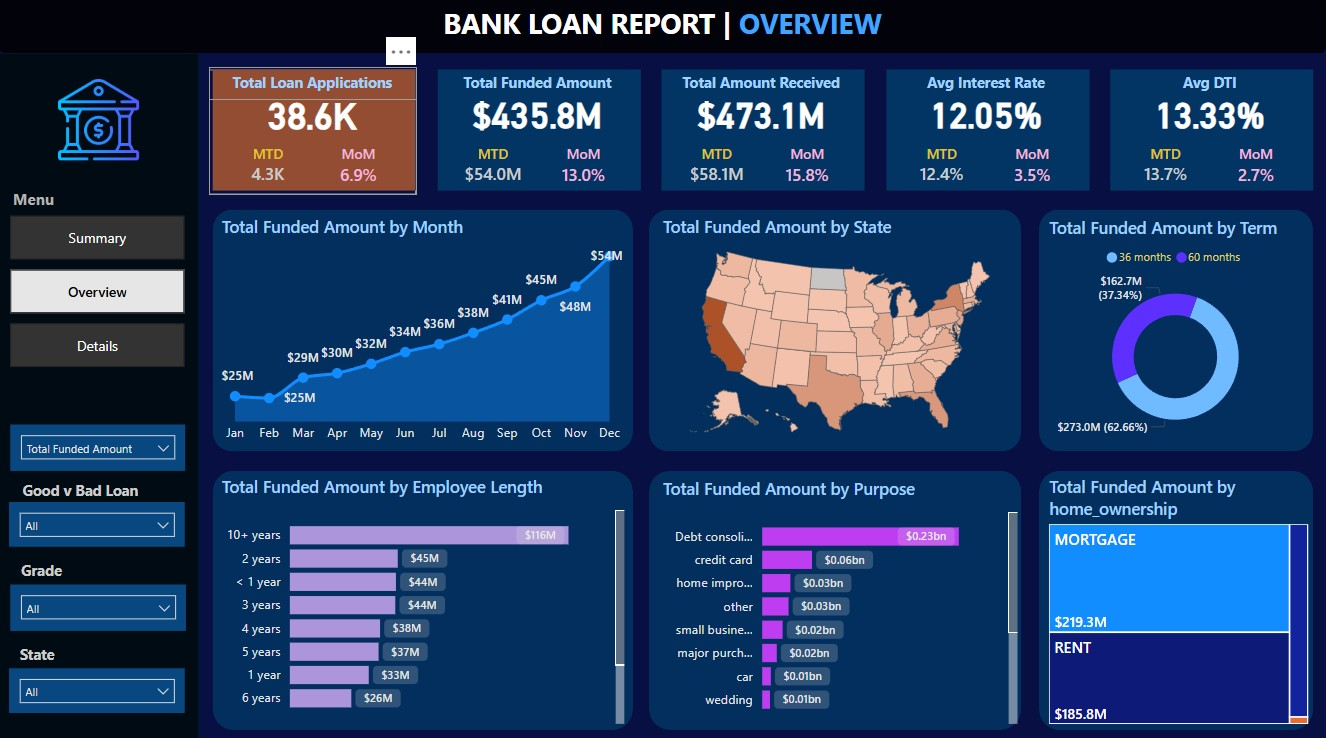

What the dashboard file says about the page in this screenshot:
{"tool":"powerbi","page":{"name":"Overview","canvas":[1280,720],"ordinal":1},"visuals":[{"type":"shape","box":[0,0,1280.5,54.6],"z":0},{"type":"group","id":"g1","title":"Group 1","box":[203.1,69.4,199.4,120.6],"z":0,"group":"g6"},{"type":"group","id":"g2","title":"Group 1","box":[419.5,69.4,199.4,120.6],"z":0,"group":"g7"},{"type":"group","id":"g3","title":"Group 1","box":[636,69.4,199.4,120.6],"z":0,"group":"g8"},{"type":"group","id":"g4","title":"Group 1","box":[852.6,69.4,199.4,120.6],"z":0,"group":"g9"},{"type":"group","id":"g5","title":"Group 1","box":[1069.1,69.4,199.4,120.6],"z":0,"group":"g10"},{"type":"textbox","box":[203.6,67.3,199.3,30.8],"z":1000,"group":"g6"},{"type":"textbox","box":[420,67.3,199.3,30.8],"z":1000,"group":"g7"},{"type":"textbox","box":[636.5,67.3,199.3,30.8],"z":1000,"group":"g8"},{"type":"textbox","box":[853.1,67.3,199.3,30.8],"z":1000,"group":"g9"},{"type":"textbox","box":[1069.6,67.3,199.3,30.8],"z":1000,"group":"g10"},{"type":"shape","box":[206.5,205.3,405.9,233.8],"z":1000},{"type":"textbox","box":[8.1,461.6,140,35.6],"z":1000,"group":"g16"},{"type":"textbox","box":[9.9,539.5,62.5,32.4],"z":1000,"group":"g17"},{"type":"textbox","box":[1.8,620.6,71.2,29.7],"z":1000,"group":"g18"},{"type":"shape","box":[627.8,205.3,359.6,233.8],"z":2000},{"type":"shape","box":[0,54.6,192.9,665.8],"z":3000},{"type":"shape","box":[206.5,69.4,195.9,117.2],"z":3000,"group":"g1"},{"type":"shape","box":[422.9,69.4,195.9,117.2],"z":3000,"group":"g2"},{"type":"shape","box":[639.4,69.4,195.9,117.2],"z":3000,"group":"g3"},{"type":"shape","box":[856,69.4,195.9,117.2],"z":3000,"group":"g4"},{"type":"shape","box":[1072.5,69.4,195.9,117.2],"z":3000,"group":"g5"},{"type":"shape","box":[0,54.6,192.9,665.8],"z":4000},{"type":"textbox","box":[403,2.1,474.5,45.6],"z":5000},{"type":"group","id":"g6","title":"Group 2","box":[203.1,67.3,199.8,122.6],"z":7000,"group":"g11"},{"type":"group","id":"g7","title":"Group 2","box":[419.5,67.3,199.8,122.6],"z":7000,"group":"g12"},{"type":"group","id":"g8","title":"Group 2","box":[636,67.3,199.8,122.6],"z":7000,"group":"g13"},{"type":"group","id":"g9","title":"Group 2","box":[852.6,67.3,199.8,122.6],"z":7000,"group":"g14"},{"type":"group","id":"g10","title":"Group 2","box":[1069.1,67.3,199.8,122.6],"z":7000,"group":"g15"},{"type":"group","id":"g11","title":"Group 3","box":[203.1,67.3,199.8,123.3],"z":8000},{"type":"card","fields":{"Values":["financial_loan.Total Loan Applications"]},"box":[203.1,88.3,199.3,45.5],"z":8000,"group":"g1"},{"type":"card","fields":{"Values":["financial_loan.Total Loan Amount"]},"box":[419.5,88.3,199.3,45.5],"z":8000,"group":"g2"},{"type":"card","fields":{"Values":["financial_loan.Total Amount Collection"]},"box":[636,88.3,199.3,45.5],"z":8000,"group":"g3"},{"type":"card","fields":{"Values":["financial_loan.Avg Interest Rate"]},"box":[852.6,88.3,199.3,45.5],"z":8000,"group":"g4"},{"type":"card","fields":{"Values":["financial_loan.Avg DTI"]},"box":[1069.1,88.3,199.3,45.5],"z":8000,"group":"g5"},{"type":"card","title":"MoM","fields":{"Values":["financial_loan.YOY Loan Applications"]},"box":[303.6,141.9,88.1,48.7],"z":8000,"group":"g11"},{"type":"card","title":"MoM","fields":{"Values":["financial_loan.YOY Loan Amount"]},"box":[520,141.9,88.1,48.7],"z":8000,"group":"g12"},{"type":"card","title":"MoM","fields":{"Values":["financial_loan.YOY Loan Collection"]},"box":[736.5,141.9,88.1,48.7],"z":8000,"group":"g13"},{"type":"card","title":"MoM","fields":{"Values":["financial_loan.YOY Int Rate"]},"box":[953.1,141.9,88.1,48.7],"z":8000,"group":"g14"},{"type":"card","title":"MoM","fields":{"Values":["financial_loan.YOY DTI"]},"box":[1169.6,141.9,88.1,48.7],"z":8000,"group":"g15"},{"type":"group","id":"g12","title":"Group 3","box":[419.5,67.3,199.9,123.3],"z":9000},{"type":"card","title":"MTD","fields":{"Values":["financial_loan.MTD Applications"]},"box":[209.8,142,99.3,48],"z":9000,"group":"g1"},{"type":"card","title":"MTD","fields":{"Values":["financial_loan.MTD Loan Amount"]},"box":[426.2,142,99.3,48],"z":9000,"group":"g2"},{"type":"card","title":"MTD","fields":{"Values":["financial_loan.MTD Loan Collection"]},"box":[642.7,142,99.3,48],"z":9000,"group":"g3"},{"type":"card","title":"MTD","fields":{"Values":["financial_loan.MTD Avg Int Rate"]},"box":[859.3,142,99.3,48],"z":9000,"group":"g4"},{"type":"card","title":"MTD","fields":{"Values":["financial_loan.MTD Avg DTI"]},"box":[1075.8,142,99.3,48],"z":9000,"group":"g5"},{"type":"group","id":"g13","title":"Group 3","box":[636,67.3,199.9,123.3],"z":10000},{"type":"group","id":"g14","title":"Group 3","box":[852.6,67.3,199.9,123.3],"z":11000},{"type":"group","id":"g15","title":"Group 3","box":[1069.1,67.3,199.9,123.3],"z":12000},{"type":"shape","box":[206.5,456.9,405.9,250.4],"z":13000},{"type":"image","box":[26.8,69.2,138.4,99.3],"z":14000},{"type":"areaChart","fields":{"Y":["financial_loan.Total Loan Applications"],"Category":["Date Table.Month"]},"box":[210.1,210.1,397.6,229],"z":15000},{"type":"shape","box":[1004,205.3,264.6,233.8],"z":16000},{"type":"slicer","fields":{"Values":["Select Measure.Select Measure"]},"box":[11.4,412.3,168.9,44.5],"z":17000},{"type":"shape","box":[627.8,456.9,359.6,250.4],"z":18000},{"type":"shape","box":[1004,456.9,264.6,250.4],"z":19000},{"type":"slicer","fields":{"Values":["financial_loan.Good v Bad Loan"]},"box":[10.1,487,169.7,43],"z":20000},{"type":"slicer","fields":{"Values":["financial_loan.grade"]},"box":[10.4,566.7,169.9,44.5],"z":21000},{"type":"slicer","fields":{"Values":["financial_loan.address_state"]},"box":[10,647.3,169.9,43.5],"z":22000},{"type":"group","id":"g16","title":"Group 2","box":[8.1,461.6,140,35.6],"z":23000},{"type":"group","id":"g17","title":"Group 2","box":[9.9,539.5,62.5,32.4],"z":24000},{"type":"group","id":"g18","title":"Group 2","box":[1.8,620.6,71.2,29.7],"z":25000},{"type":"pageNavigator","box":[11.4,211.4,168.6,147.3],"z":26000},{"type":"textbox","box":[8.3,180.3,157.5,34.2],"z":28000},{"type":"shapeMap","fields":{"Value":["financial_loan.Total Loan Applications"],"Category":["financial_loan.State"]},"box":[636.2,209.7,351.9,224.9],"z":29000},{"type":"donutChart","fields":{"Y":["financial_loan.Total Loan Applications"],"Category":["financial_loan.term"]},"box":[1009,210.9,254,223.7],"z":30000},{"type":"barChart","fields":{"Y":["financial_loan.Total Loan Applications"],"Category":["financial_loan.emp_length"]},"box":[209.7,461.4,398.5,245.8],"z":31000},{"type":"barChart","fields":{"Y":["financial_loan.Total Loan Applications"],"Category":["financial_loan.purpose"]},"box":[636.2,463.7,351.9,243.5],"z":32000},{"type":"treemap","fields":{"Values":["financial_loan.Total Loan Applications"],"Group":["financial_loan.home_ownership"]},"box":[1009,461.4,259.8,245.8],"z":33000}]}

Visuals, with their boxes in screenshot pixels (x1, y1, x2, y2), scaled from the page's 1280x720 canvas onto the 1326x738 screenshot:
shape: [left=0, top=0, right=1325, bottom=56]
"Group 1" group: [left=210, top=71, right=417, bottom=195]
"Group 1" group: [left=435, top=71, right=641, bottom=195]
"Group 1" group: [left=659, top=71, right=865, bottom=195]
"Group 1" group: [left=883, top=71, right=1090, bottom=195]
"Group 1" group: [left=1108, top=71, right=1314, bottom=195]
textbox: [left=211, top=69, right=417, bottom=101]
textbox: [left=435, top=69, right=642, bottom=101]
textbox: [left=659, top=69, right=866, bottom=101]
textbox: [left=884, top=69, right=1090, bottom=101]
textbox: [left=1108, top=69, right=1315, bottom=101]
shape: [left=214, top=210, right=634, bottom=450]
textbox: [left=8, top=473, right=153, bottom=510]
textbox: [left=10, top=553, right=75, bottom=586]
textbox: [left=2, top=636, right=76, bottom=667]
shape: [left=650, top=210, right=1023, bottom=450]
shape: [left=0, top=56, right=200, bottom=737]
shape: [left=214, top=71, right=417, bottom=191]
shape: [left=438, top=71, right=641, bottom=191]
shape: [left=662, top=71, right=865, bottom=191]
shape: [left=887, top=71, right=1090, bottom=191]
shape: [left=1111, top=71, right=1314, bottom=191]
shape: [left=0, top=56, right=200, bottom=737]
textbox: [left=417, top=2, right=909, bottom=49]
"Group 2" group: [left=210, top=69, right=417, bottom=195]
"Group 2" group: [left=435, top=69, right=642, bottom=195]
"Group 2" group: [left=659, top=69, right=866, bottom=195]
"Group 2" group: [left=883, top=69, right=1090, bottom=195]
"Group 2" group: [left=1108, top=69, right=1315, bottom=195]
"Group 3" group: [left=210, top=69, right=417, bottom=195]
card - financial_loan.Total Loan Applications: [left=210, top=91, right=417, bottom=137]
card - financial_loan.Total Loan Amount: [left=435, top=91, right=641, bottom=137]
card - financial_loan.Total Amount Collection: [left=659, top=91, right=865, bottom=137]
card - financial_loan.Avg Interest Rate: [left=883, top=91, right=1090, bottom=137]
card - financial_loan.Avg DTI: [left=1108, top=91, right=1314, bottom=137]
"MoM" card: [left=315, top=145, right=406, bottom=195]
"MoM" card: [left=539, top=145, right=630, bottom=195]
"MoM" card: [left=763, top=145, right=854, bottom=195]
"MoM" card: [left=987, top=145, right=1079, bottom=195]
"MoM" card: [left=1212, top=145, right=1303, bottom=195]
"Group 3" group: [left=435, top=69, right=642, bottom=195]
"MTD" card: [left=217, top=146, right=320, bottom=195]
"MTD" card: [left=442, top=146, right=544, bottom=195]
"MTD" card: [left=666, top=146, right=769, bottom=195]
"MTD" card: [left=890, top=146, right=993, bottom=195]
"MTD" card: [left=1114, top=146, right=1217, bottom=195]
"Group 3" group: [left=659, top=69, right=866, bottom=195]
"Group 3" group: [left=883, top=69, right=1090, bottom=195]
"Group 3" group: [left=1108, top=69, right=1315, bottom=195]
shape: [left=214, top=468, right=634, bottom=725]
image: [left=28, top=71, right=171, bottom=173]
areaChart - financial_loan.Total Loan Applications x Date Table.Month: [left=218, top=215, right=630, bottom=450]
shape: [left=1040, top=210, right=1314, bottom=450]
slicer - Select Measure.Select Measure: [left=12, top=423, right=187, bottom=468]
shape: [left=650, top=468, right=1023, bottom=725]
shape: [left=1040, top=468, right=1314, bottom=725]
slicer - financial_loan.Good v Bad Loan: [left=10, top=499, right=186, bottom=543]
slicer - financial_loan.grade: [left=11, top=581, right=187, bottom=626]
slicer - financial_loan.address_state: [left=10, top=663, right=186, bottom=708]
"Group 2" group: [left=8, top=473, right=153, bottom=510]
"Group 2" group: [left=10, top=553, right=75, bottom=586]
"Group 2" group: [left=2, top=636, right=76, bottom=667]
pageNavigator: [left=12, top=217, right=186, bottom=368]
textbox: [left=9, top=185, right=172, bottom=220]
shapeMap - financial_loan.Total Loan Applications x financial_loan.State: [left=659, top=215, right=1024, bottom=445]
donutChart - financial_loan.Total Loan Applications x financial_loan.term: [left=1045, top=216, right=1308, bottom=445]
barChart - financial_loan.Total Loan Applications x financial_loan.emp_length: [left=217, top=473, right=630, bottom=725]
barChart - financial_loan.Total Loan Applications x financial_loan.purpose: [left=659, top=475, right=1024, bottom=725]
treemap - financial_loan.Total Loan Applications x financial_loan.home_ownership: [left=1045, top=473, right=1314, bottom=725]
